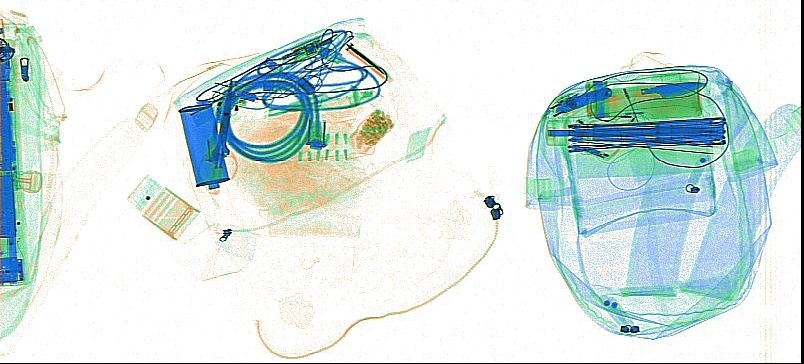knife: (593, 81, 706, 104), (345, 41, 392, 82), (554, 87, 611, 114)
scissors: (196, 77, 236, 184)
zippooil: (177, 102, 230, 193)
